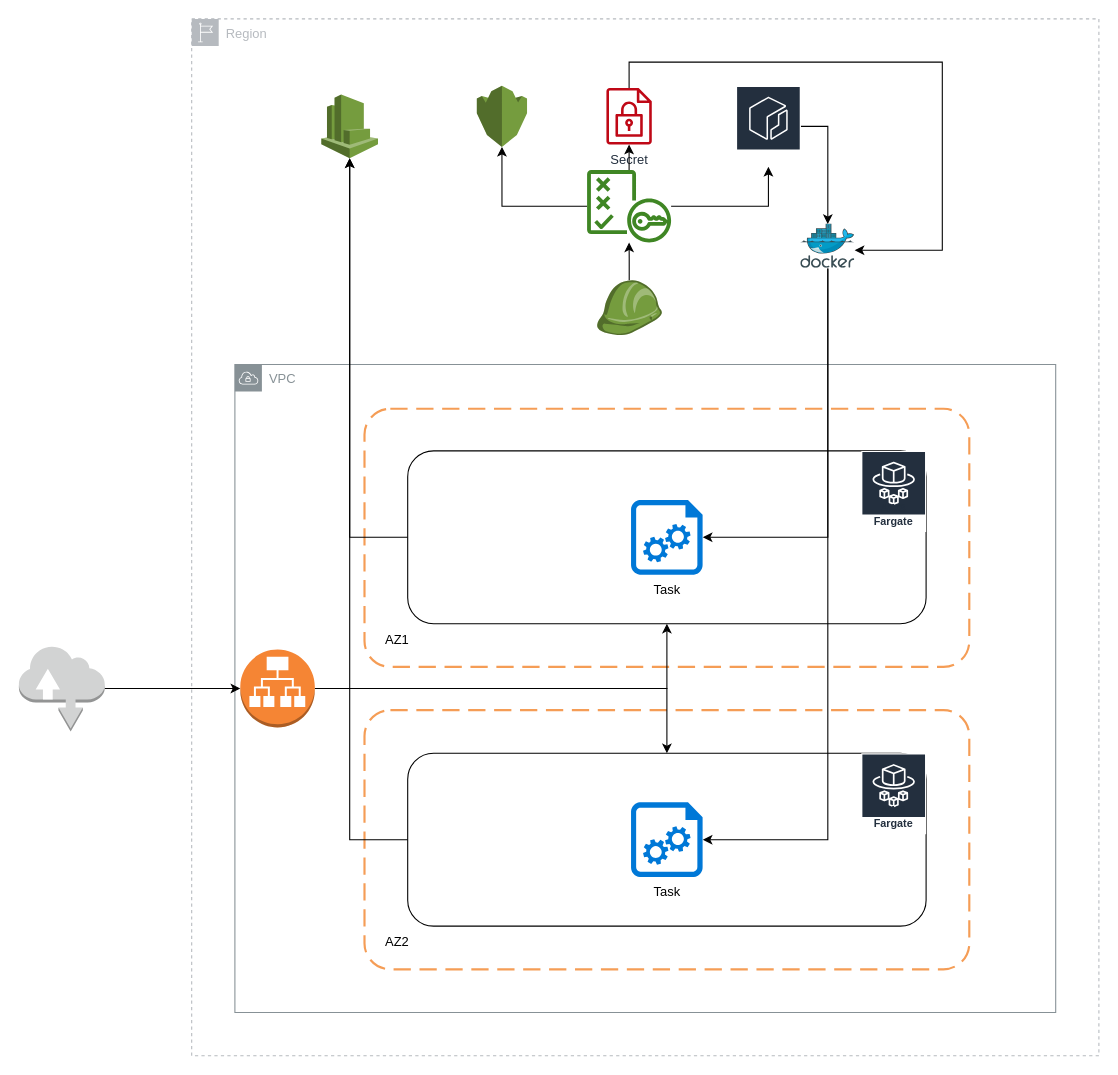
The diagram is 1118 pixels wide and 1075 high, and some of its shapes have lost their labels. The shapes that lost their labels are listed below. From the top down, each one's centre as x and y in pixels, then its label:
the point at 349,125: Cloudwatch
the point at 501,116: KMS Key
the point at 768,126: Amazon ECR
the point at 628,307: Role
